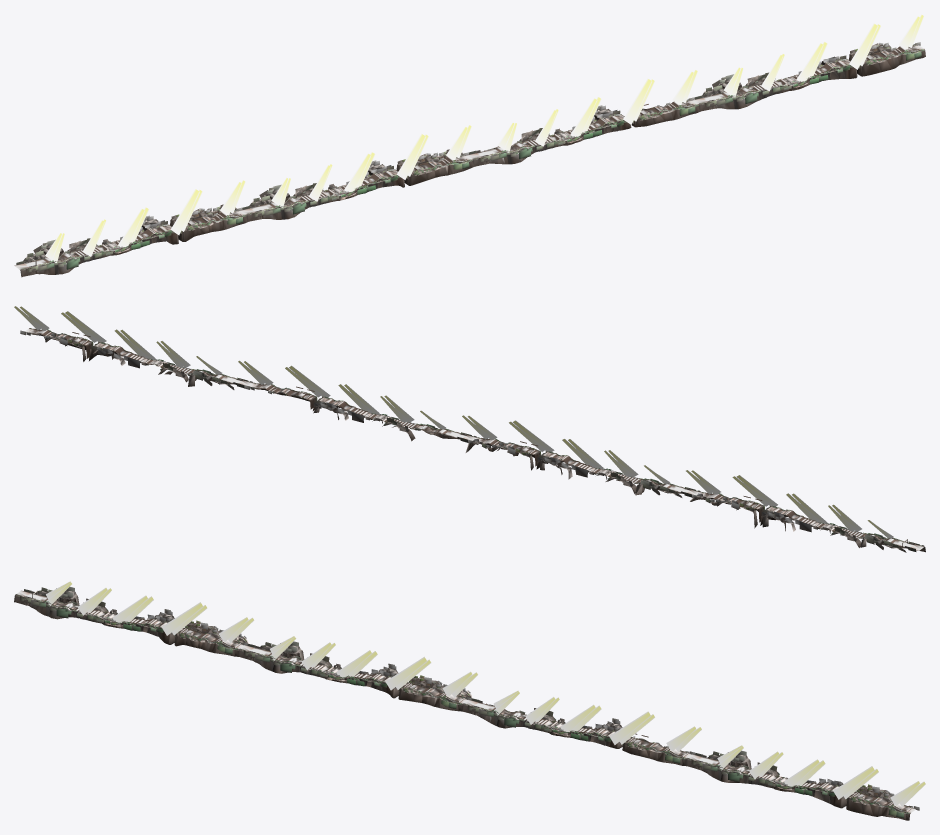
File: Forest_09.fbx
3 views of the same model, one above another, from view 1: azimuth 30°, elevation 25°; view 2: azimuth 150°, elevation 25°; view 3: azimuth 330°, elevation 25° (orthographic).
Parts seen in each view (by area): view 1: Mountain_01, Light_01, Tree_01, Ground_01; view 2: Light_01, Tree_01, Ground_01, Mountain_01, Leak_01; view 3: Mountain_01, Light_01, Tree_01, Ground_01, Leak_01.
Part boxes in pixels (left/top/right/bottom): Mountain_01: left=20, top=43, right=925, bottom=277; Light_01: left=45, top=14, right=923, bottom=262; Tree_01: left=16, top=42, right=924, bottom=272; Ground_01: left=14, top=45, right=923, bottom=269; Light_01: left=14, top=306, right=893, bottom=538; Tree_01: left=20, top=328, right=924, bottom=551; Ground_01: left=25, top=328, right=923, bottom=550; Mountain_01: left=35, top=331, right=925, bottom=552; Leak_01: left=29, top=328, right=895, bottom=539; Mountain_01: left=14, top=590, right=910, bottom=820; Light_01: left=46, top=581, right=925, bottom=806; Tree_01: left=15, top=587, right=919, bottom=818; Ground_01: left=17, top=590, right=915, bottom=812; Leak_01: left=44, top=600, right=911, bottom=811.
Size of the model in its own units: 130143 by 6165 by 4249.
